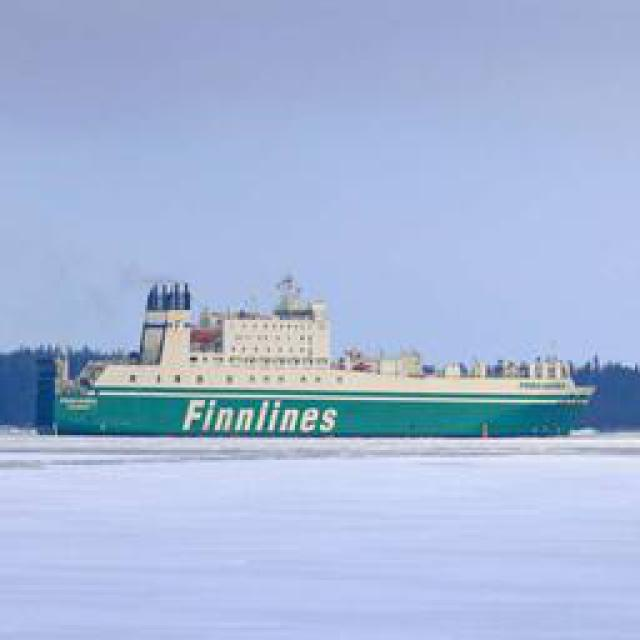Ship: (54, 287, 599, 440)
